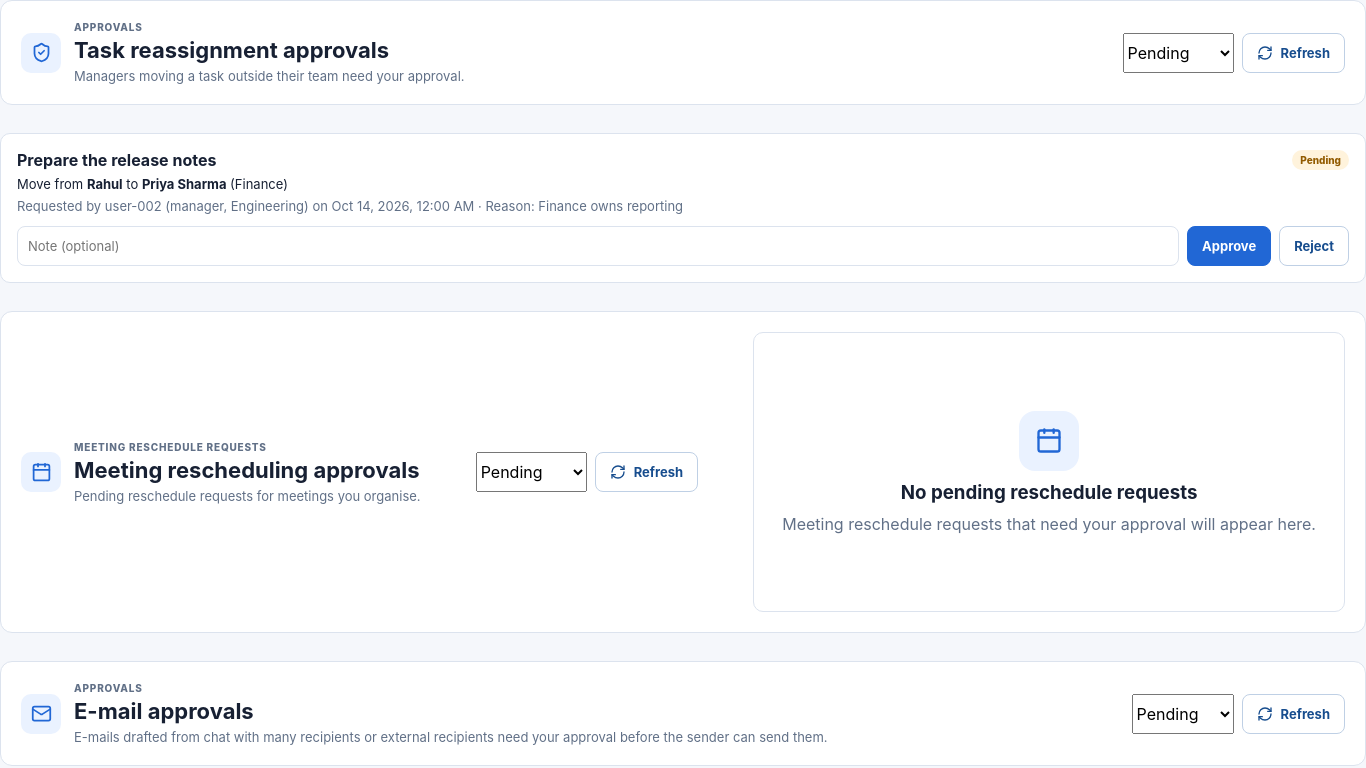
it: ApprovalsPage › lets HR / Operations approve a cross-team reassignment
The width and height of the screenshot is (1366, 768).
Expected: the text "Prepare the release notes" is shown, [17,150,216,170]
Type "OK" into the field named "Decision note for Prepare the release notes" at (598, 246), box [17,226,1179,266]
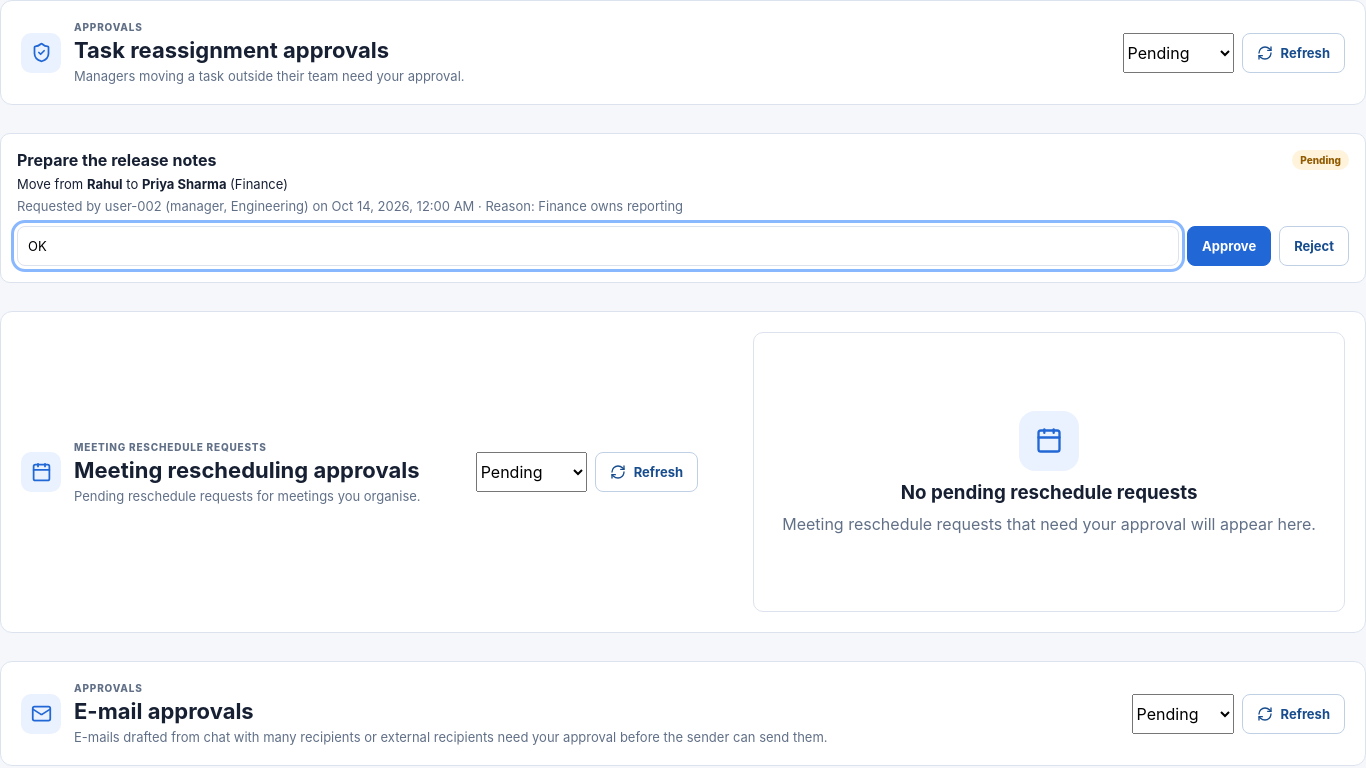
Click the button "Approve" at (1229, 246), box [1187,226,1271,266]
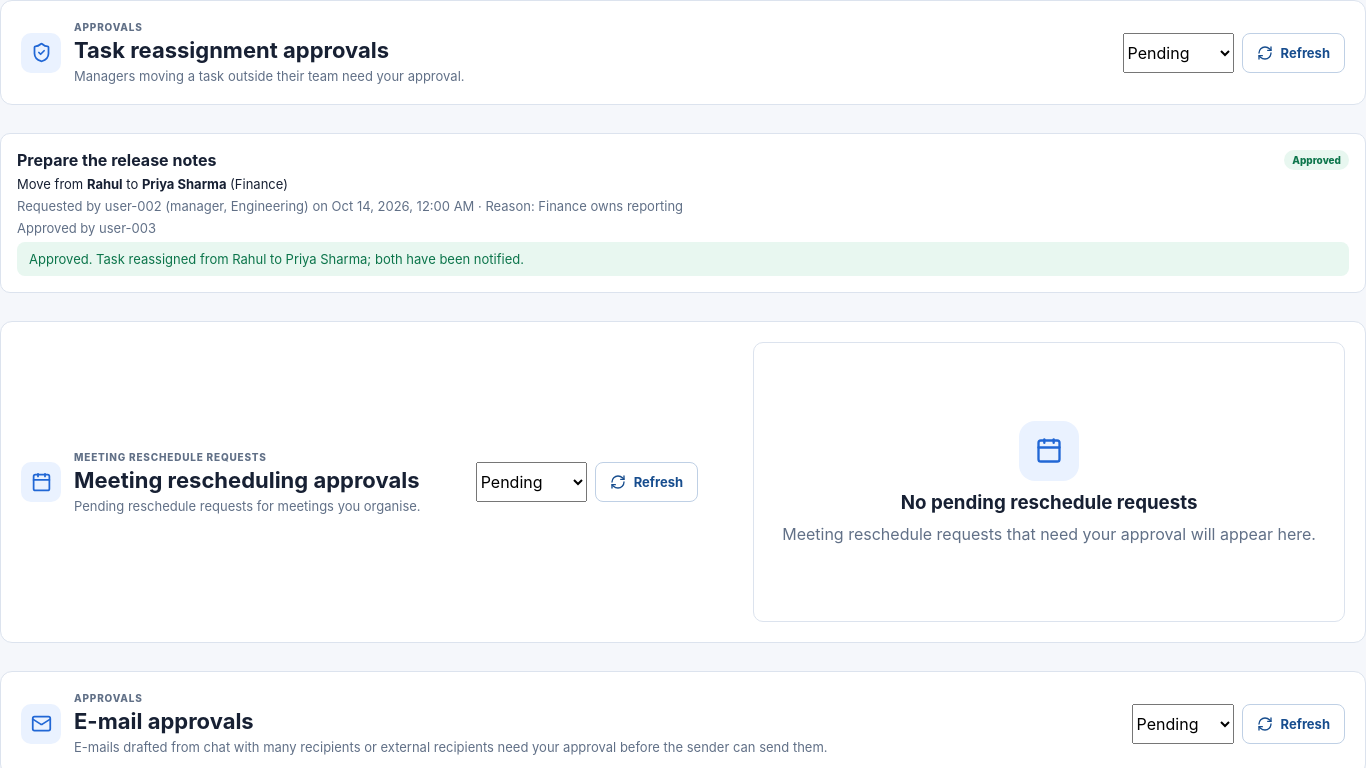
Result: the text "Approved. Task reassigned from Rahul to Priya Sharma; both have been notified." is shown at [17,242,1349,276]
Result: the text "Approved" is shown at [1284,150,1349,170]
